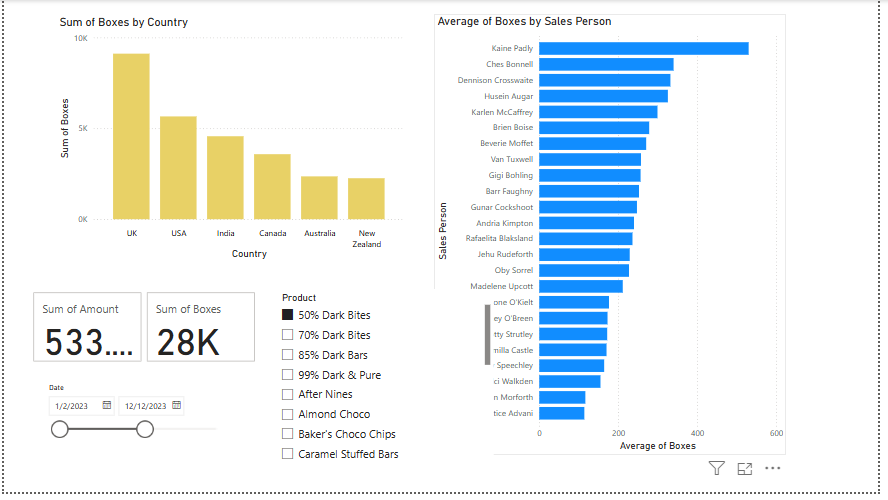

Layout of this report page (visuals, bound fields, positions):
{"tool":"powerbi","page":{"name":"Page 1","canvas":[1280,720],"ordinal":0},"visuals":[{"type":"columnChart","fields":{"Category":["data.Country"],"Y":["data.Boxes"]},"box":[75.4,47.8,515.9,362.3],"z":0},{"type":"clusteredBarChart","fields":{"Category":["data.Sales Person"],"Y":["data.Boxes"]},"box":[629,20.3,515.9,644.9],"z":1000},{"type":"cardVisual","fields":{"Data":["data.Amount","data.Boxes"]},"box":[75.4,410.1,236.2,146.4],"z":2000},{"type":"slicer","fields":{"Values":["data.Product"]},"box":[333.3,410.1,323.2,266.7],"z":3000},{"type":"slicer","fields":{"Values":["data.Date"]},"box":[52.2,497.1,313,223.2],"z":4000}]}

Visuals, with their boxes in screenshot pixels (x1, y1, x2, y2), scaled from the page's 1280x720 canvas onto the 888x500 screenshot:
columnChart - data.Country x data.Boxes: [52, 33, 410, 285]
clusteredBarChart - data.Sales Person x data.Boxes: [436, 14, 794, 462]
cardVisual - data.Amount x data.Boxes: [52, 285, 216, 386]
slicer - data.Product: [231, 285, 455, 470]
slicer - data.Date: [36, 345, 253, 499]
